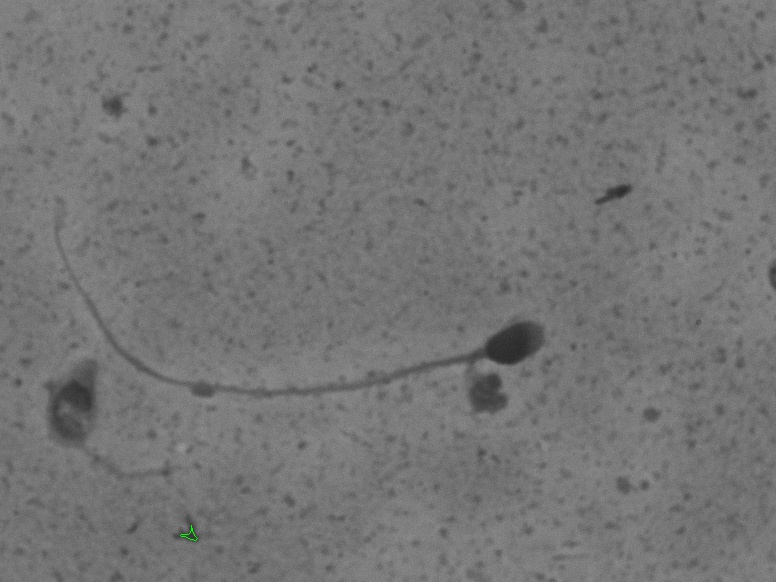Normal: (36, 188, 561, 415)
